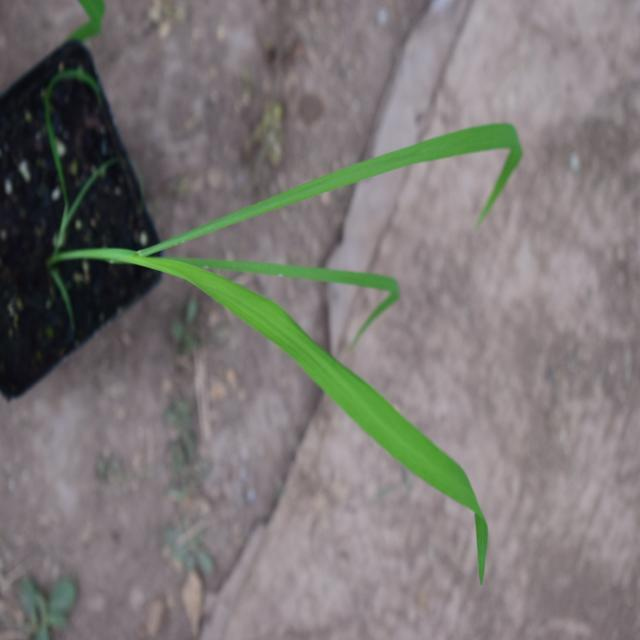barnyard_grass: (142, 110, 555, 542)
